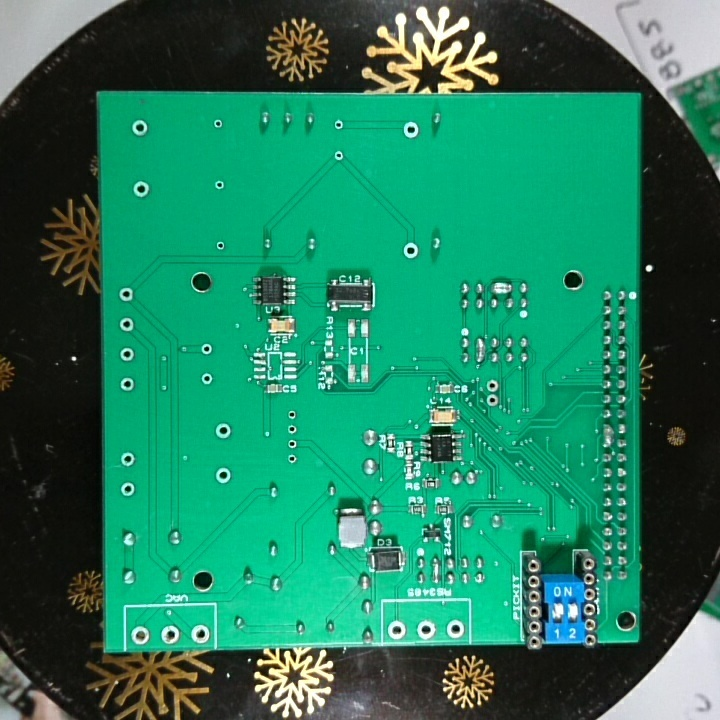F: (414, 616, 439, 641), (159, 622, 183, 646), (188, 622, 211, 646), (385, 618, 410, 640), (130, 116, 152, 140), (131, 177, 151, 203), (129, 623, 151, 646), (117, 449, 139, 471), (213, 420, 234, 443), (445, 617, 466, 640), (117, 315, 138, 337), (117, 374, 139, 394), (214, 464, 234, 486), (116, 286, 136, 306), (402, 240, 421, 261), (116, 344, 137, 363), (401, 120, 420, 140), (197, 370, 217, 389), (119, 479, 137, 500), (198, 340, 216, 360), (483, 376, 503, 394), (331, 148, 348, 165), (482, 392, 499, 409), (284, 436, 301, 452), (282, 451, 299, 467), (211, 115, 225, 134), (285, 420, 300, 437), (212, 239, 228, 254), (211, 178, 228, 192), (284, 408, 300, 422), (331, 118, 345, 133)
P: (428, 553, 443, 587), (489, 280, 515, 297), (599, 422, 614, 449), (474, 336, 485, 365)
